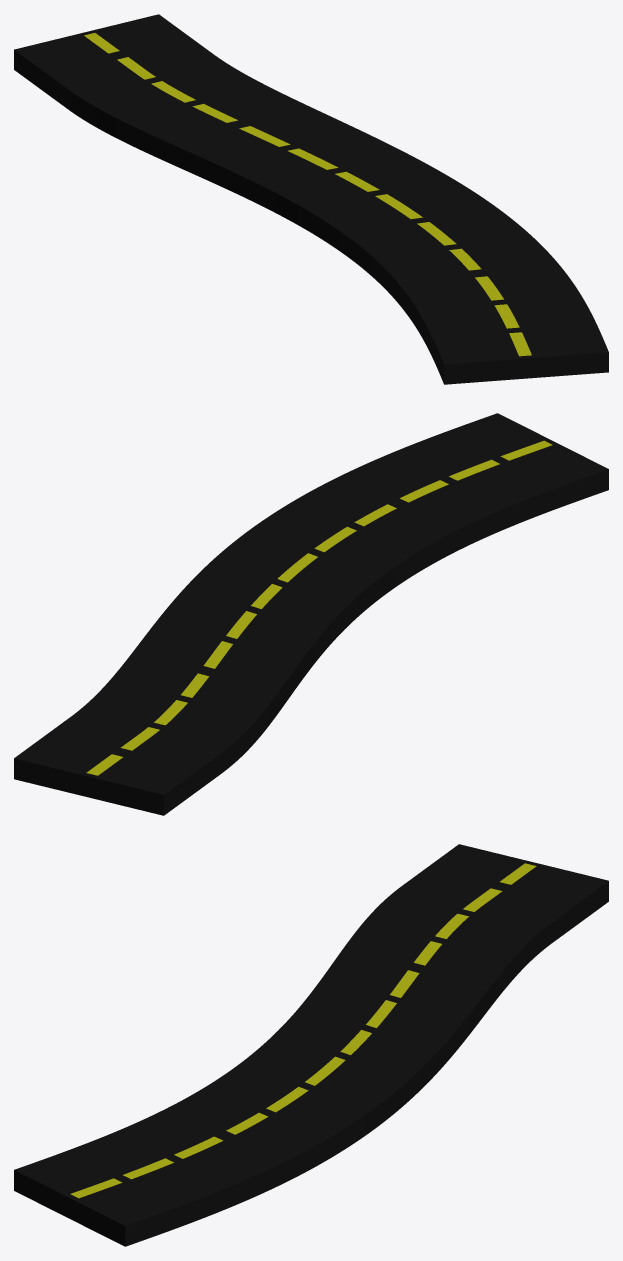
Rendered from RoadSegmentSlightBend.fbx.
The picture shows the model from 3 angles, top to bottom: view 1: azimuth 30°, elevation 25°; view 2: azimuth 150°, elevation 25°; view 3: azimuth 330°, elevation 25°; orthographic projection. The views are drawn at different scales.
Parts seen in each view (by area): view 1: Cube.001; view 2: Cube.001; view 3: Cube.001.
Part boxes in pixels (x1=…): Cube.001: x1=14, y1=14, x2=608, y2=384; Cube.001: x1=14, y1=413, x2=608, y2=815; Cube.001: x1=14, y1=844, x2=608, y2=1246.
Size of the model in its own units: 1533 by 148 by 6082.
